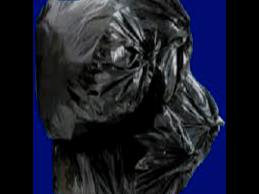Plastic: (35, 0, 156, 143), (54, 109, 198, 193), (83, 0, 199, 98), (156, 76, 218, 168)
